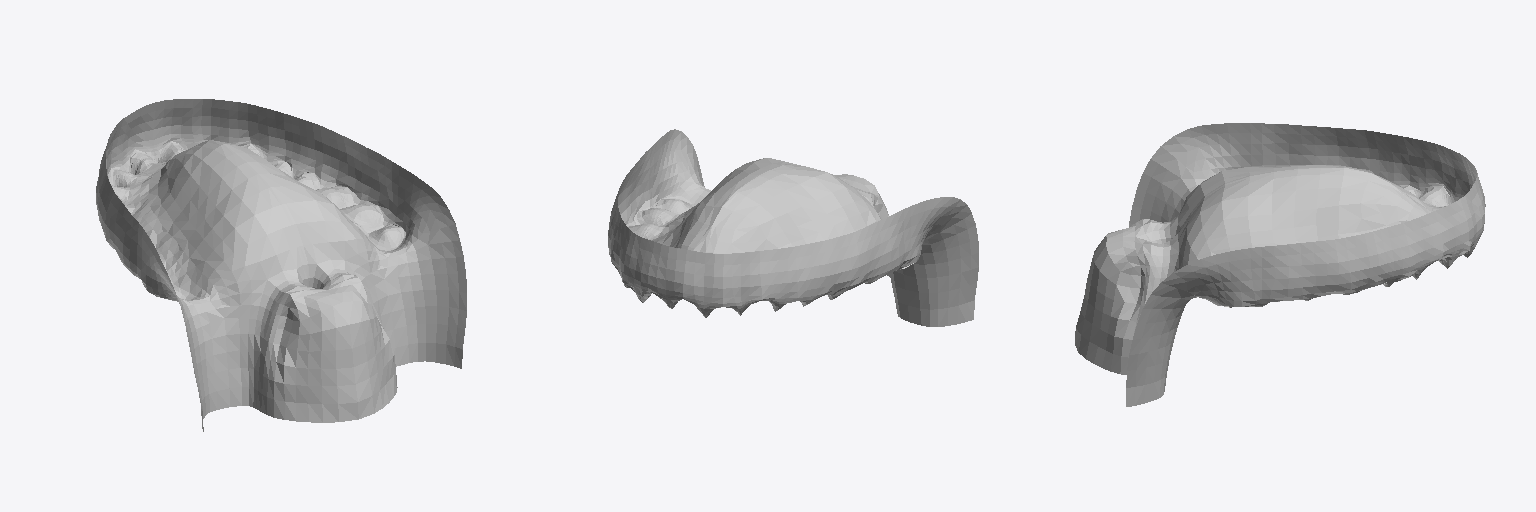
The model's file is upper_gum.obj.
3 views of the same model, side by side, from view 1: azimuth 30°, elevation 25°; view 2: azimuth 150°, elevation 25°; view 3: azimuth 270°, elevation 25° (orthographic).
Visible parts, largest first — view 1: Mouth_OBJ:upper_jaw; view 2: Mouth_OBJ:upper_jaw; view 3: Mouth_OBJ:upper_jaw.
Boxes of the visible parts, box(x1,y1,x2,y2) form: Mouth_OBJ:upper_jaw: box(96, 99, 466, 431); Mouth_OBJ:upper_jaw: box(608, 129, 978, 326); Mouth_OBJ:upper_jaw: box(1075, 123, 1485, 406).
Size of the model in its own units: 0.1295 by 0.0781 by 0.1646.